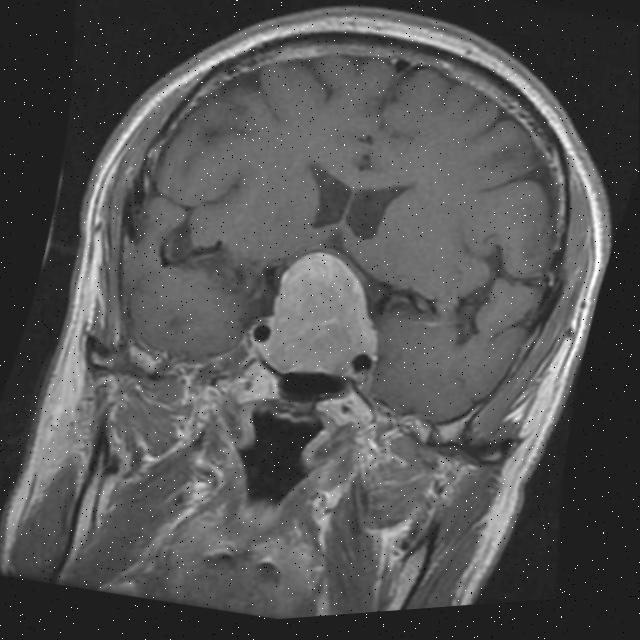Pituitary: (257, 240, 379, 391)
